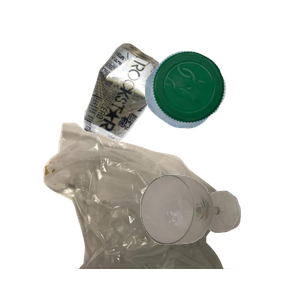glass: (138, 172, 300, 300)
metal: (81, 41, 234, 178)
plastic: (142, 48, 300, 169)
trash: (41, 120, 276, 300)
